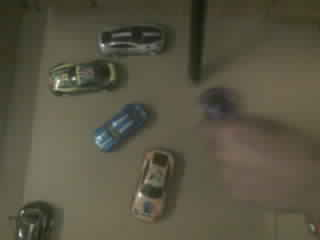Car: (131, 149, 174, 221), (49, 59, 119, 95), (95, 104, 148, 151), (98, 24, 164, 55), (17, 201, 52, 239)
